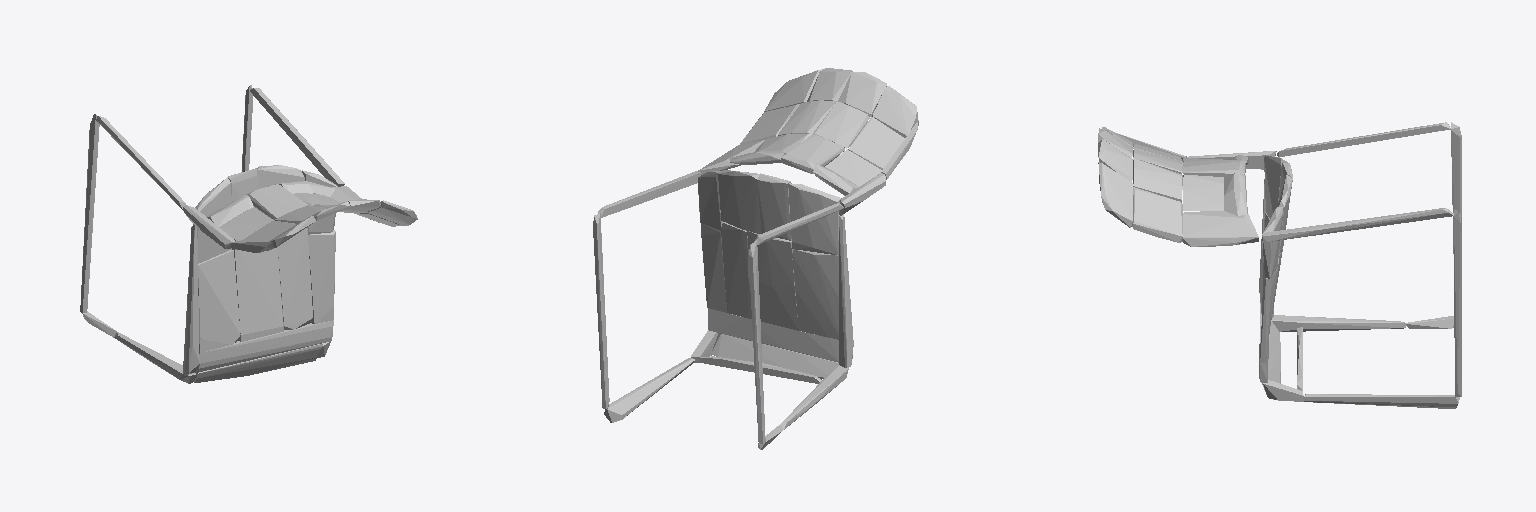
The picture shows the model from 3 angles: view 1: azimuth 30°, elevation 25°; view 2: azimuth 150°, elevation 25°; view 3: azimuth 270°, elevation 25°; orthographic projection.
Visible parts, largest first — view 1: convex_28, convex_35, convex_13, convex_14, convex_19, convex_16, convex_4, convex_2, convex_10, convex_18, convex_15, convex_6 (+11 smaller); view 2: convex_35, convex_28, convex_13, convex_18, convex_14, convex_16, convex_17, convex_19, convex_2, convex_5, convex_4, convex_23 (+21 smaller); view 3: convex_27, convex_32, convex_10, convex_0, convex_3, convex_34, convex_30, convex_9, convex_31, convex_6, convex_2, convex_15 (+9 smaller).
Boxes of the visible parts, x1,y1,x2,y2 form: convex_28: [232, 247, 283, 341]; convex_35: [198, 250, 240, 352]; convex_13: [196, 320, 333, 372]; convex_14: [278, 228, 312, 329]; convex_19: [308, 230, 335, 323]; convex_16: [194, 344, 322, 382]; convex_4: [183, 224, 199, 375]; convex_2: [80, 114, 99, 312]; convex_10: [250, 88, 344, 186]; convex_18: [195, 177, 231, 263]; convex_15: [245, 184, 307, 219]; convex_6: [96, 116, 185, 209]; convex_35: [792, 249, 838, 339]; convex_28: [747, 231, 798, 330]; convex_13: [708, 308, 838, 362]; convex_18: [788, 183, 841, 255]; convex_14: [721, 222, 751, 318]; convex_16: [712, 333, 838, 379]; convex_17: [718, 170, 761, 233]; convex_19: [701, 223, 726, 312]; convex_2: [749, 240, 765, 443]; convex_5: [757, 173, 791, 240]; convex_4: [839, 214, 853, 367]; convex_23: [848, 117, 904, 169]; convex_27: [1183, 211, 1258, 246]; convex_32: [1133, 187, 1182, 242]; convex_10: [1262, 208, 1453, 241]; convex_0: [1304, 394, 1459, 408]; convex_3: [1271, 315, 1405, 331]; convex_34: [1098, 162, 1132, 227]; convex_30: [1183, 175, 1223, 210]; convex_9: [1454, 209, 1461, 396]; convex_31: [1133, 158, 1182, 202]; convex_6: [1277, 122, 1450, 156]; convex_2: [1451, 122, 1461, 253]; convex_15: [1183, 160, 1246, 178].
Size of the model in its own units: 0.4475 by 0.5967 by 0.8227.